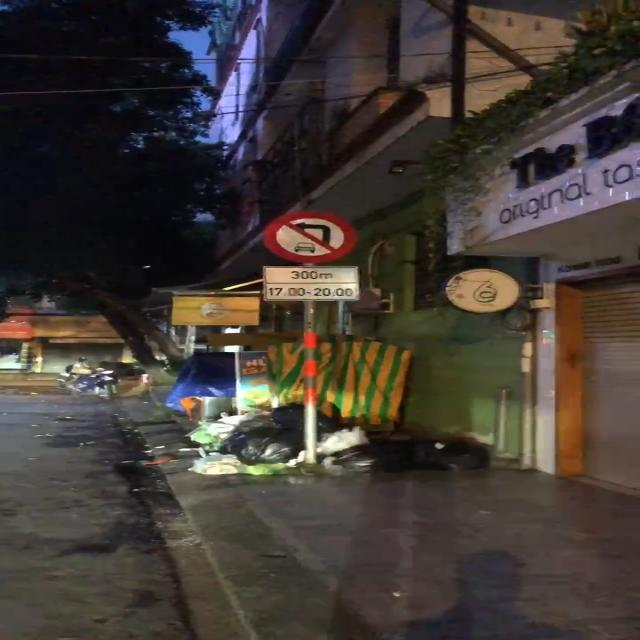Bien bao cam xe o to re trai: (258, 206, 365, 262)
